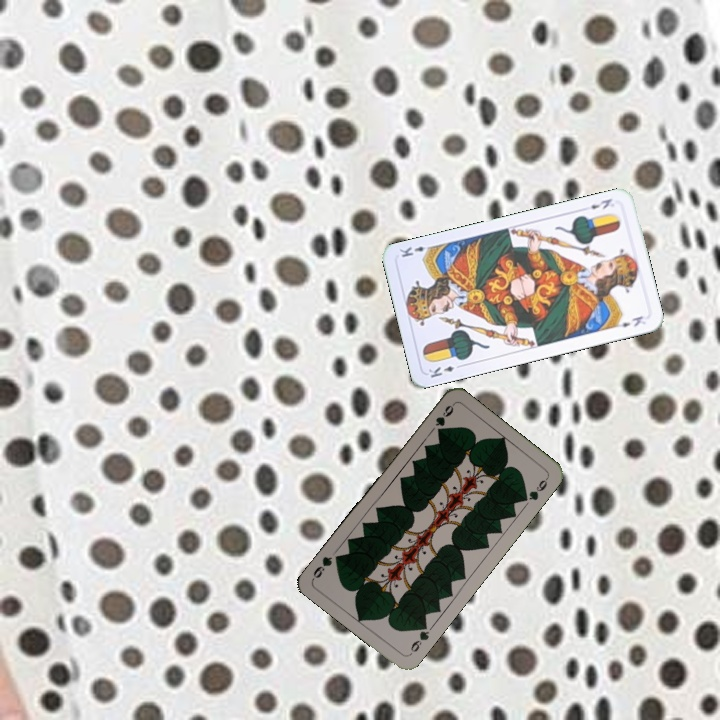EK: (424, 360, 465, 380), (586, 194, 614, 212)
G9: (405, 619, 432, 657), (431, 400, 456, 429)
